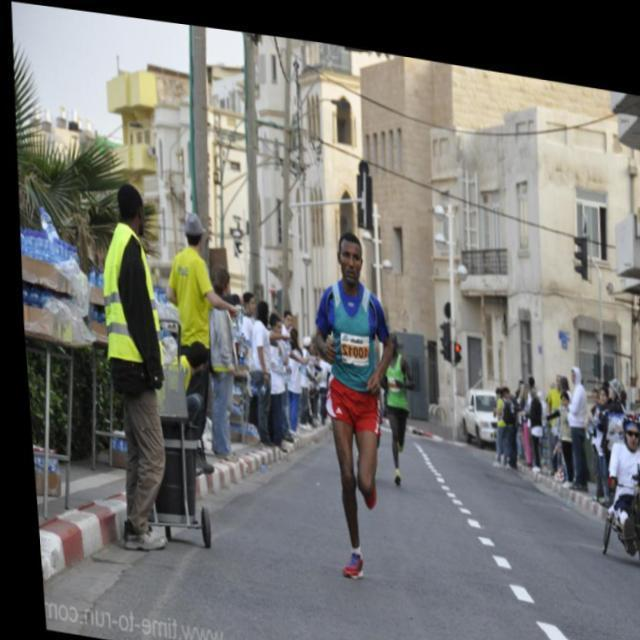dorsal: (331, 321, 364, 358)
